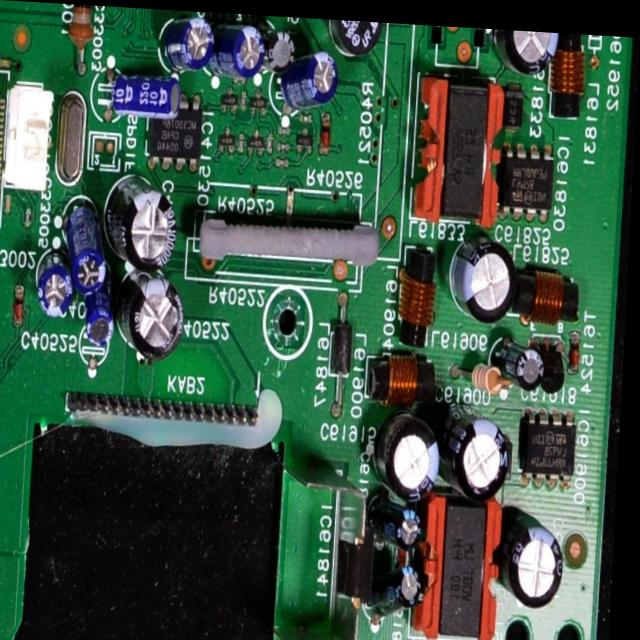IC: (519, 399, 582, 484), (0, 72, 9, 228)
capacitor: (507, 511, 572, 606), (448, 236, 523, 317), (452, 407, 522, 492), (117, 180, 181, 267), (376, 412, 445, 490), (125, 273, 186, 355), (218, 11, 271, 84), (101, 71, 182, 117), (157, 7, 213, 69), (283, 52, 338, 110), (494, 23, 558, 70), (77, 217, 112, 290), (40, 258, 82, 318), (508, 332, 549, 388), (386, 492, 430, 544), (262, 16, 300, 70), (88, 291, 123, 348), (399, 552, 434, 606)
resistor: (464, 354, 508, 388), (320, 98, 341, 157)
